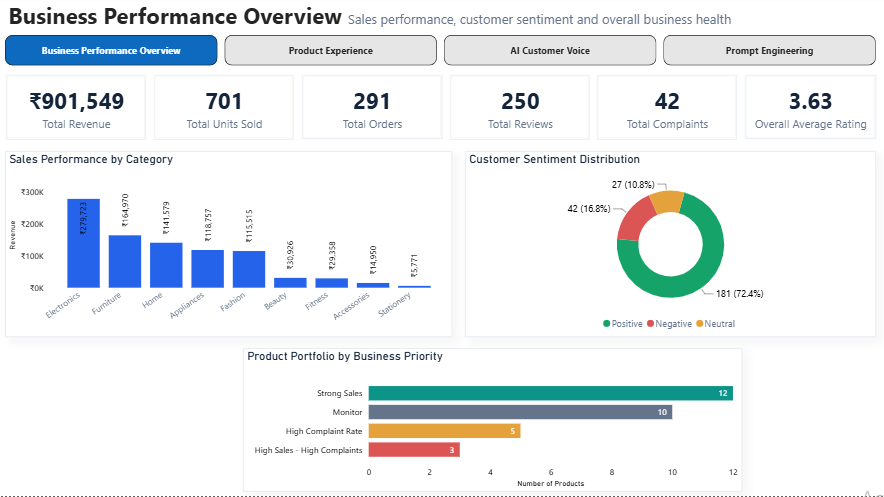

Layout of this report page (visuals, bound fields, positions):
{"tool":"powerbi","page":{"name":"Business Performance Overview","canvas":[1280,720],"ordinal":0},"visuals":[{"type":"cardVisual","fields":{"Data":["product_summary_final.Total Revenue"]},"box":[14.4,114.1,201.3,92.7],"z":0},{"type":"cardVisual","fields":{"Data":["product_summary_final.Total Units Sold"]},"box":[227.2,114.1,201.3,92.7],"z":1000},{"type":"cardVisual","fields":{"Data":["product_summary_final.Total Orders"]},"box":[440,113.7,201.6,92.2],"z":2000},{"type":"cardVisual","fields":{"Data":["product_summary_final.Total Reviews"]},"box":[653,114.1,201.3,92.7],"z":3000},{"type":"cardVisual","fields":{"Data":["product_summary_final.Total Complaints"]},"box":[865.8,114.1,201.3,92.7],"z":4000},{"type":"cardVisual","fields":{"Data":["product_summary_final.Overall Average Rating"]},"box":[1078.6,113.8,188.6,92.2],"z":5000},{"type":"clusteredColumnChart","title":"Sales Performance by Category","fields":{"Category":["products_final.category"],"Y":["product_summary_final.Total Revenue"]},"box":[13,223.2,643.7,267.8],"z":6000},{"type":"donutChart","title":"Customer Sentiment Distribution","fields":{"Category":["reviews_analysis_final.corrected_sentiment"],"Y":["CountNonNull(reviews_analysis_final.review_id)"]},"box":[675.4,223.2,591.8,267.8],"z":7000},{"type":"clusteredBarChart","title":"Product Portfolio by Business Priority","fields":{"Category":["product_summary_final.business_priority"],"Y":["CountNonNull(product_summary_final.product_id)"]},"box":[355.7,506.8,718.6,207.4],"z":8000},{"type":"textbox","box":[13,0,1151.3,56.4],"z":9000},{"type":"pageNavigator","box":[13,56.2,1254.2,44.6],"z":10000}]}

Visuals, with their boxes in screenshot pixels (x1, y1, x2, y2), scaled from the page's 1280x720 canvas onto the 884x497 screenshot:
cardVisual - product_summary_final.Total Revenue: {"left": 10, "top": 79, "right": 149, "bottom": 143}
cardVisual - product_summary_final.Total Units Sold: {"left": 157, "top": 79, "right": 296, "bottom": 143}
cardVisual - product_summary_final.Total Orders: {"left": 304, "top": 78, "right": 443, "bottom": 142}
cardVisual - product_summary_final.Total Reviews: {"left": 451, "top": 79, "right": 590, "bottom": 143}
cardVisual - product_summary_final.Total Complaints: {"left": 598, "top": 79, "right": 737, "bottom": 143}
cardVisual - product_summary_final.Overall Average Rating: {"left": 745, "top": 79, "right": 875, "bottom": 142}
"Sales Performance by Category" clusteredColumnChart: {"left": 9, "top": 154, "right": 454, "bottom": 339}
"Customer Sentiment Distribution" donutChart: {"left": 466, "top": 154, "right": 875, "bottom": 339}
"Product Portfolio by Business Priority" clusteredBarChart: {"left": 246, "top": 350, "right": 742, "bottom": 493}
textbox: {"left": 9, "top": 0, "right": 804, "bottom": 39}
pageNavigator: {"left": 9, "top": 39, "right": 875, "bottom": 70}
